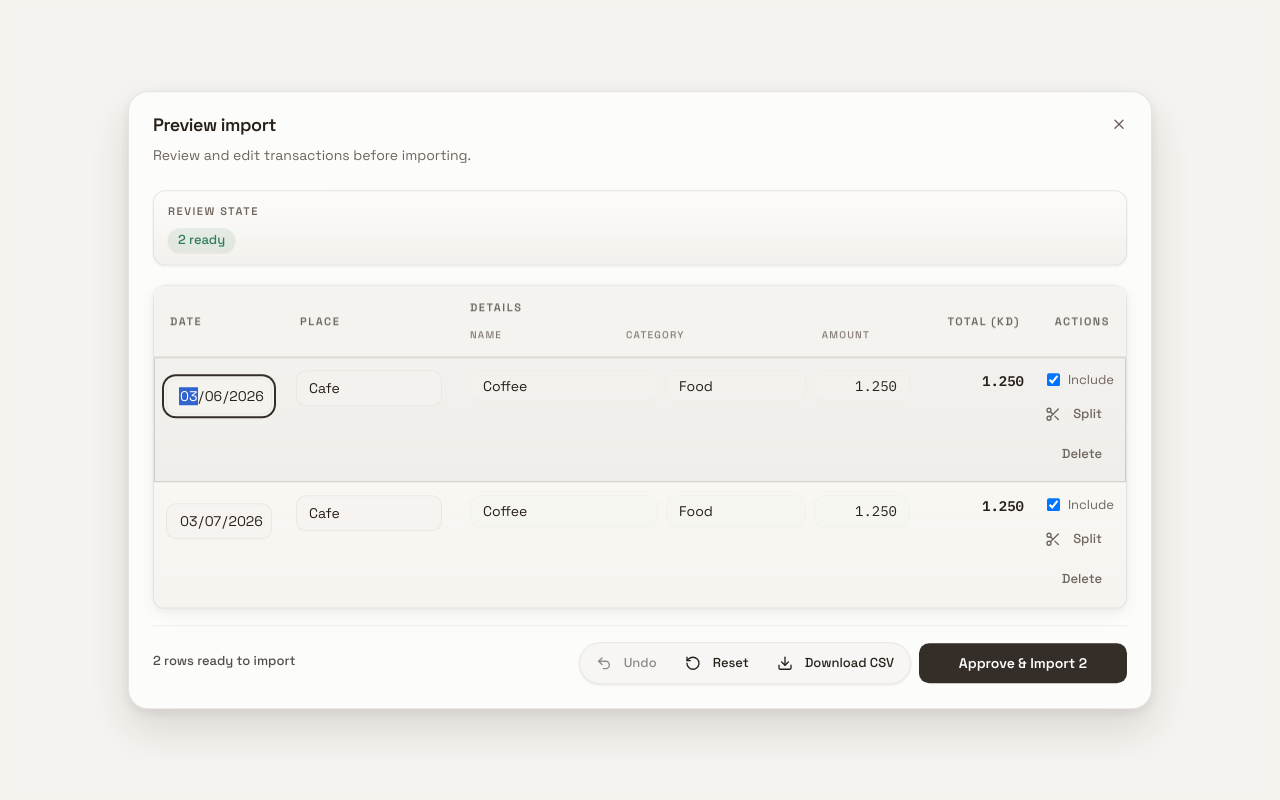
Test: PreviewImportDialog › shows atomic import diagnostics when the backend rejects a mixed batch
Click the button "Approve & Import 2".
click(1023, 663)  # box top-left (919, 643), bottom-right (1127, 683)
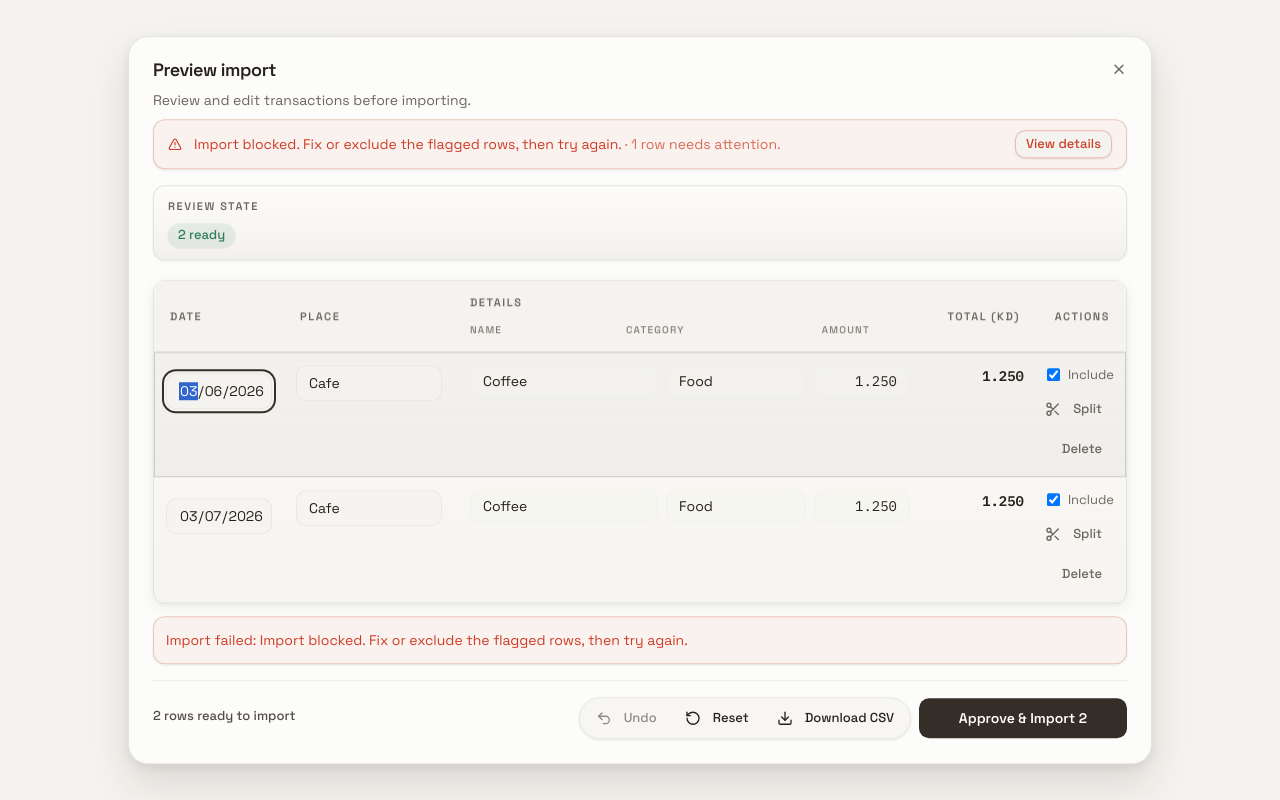
Check: the text "Import blocked. Fix or exclude the flagged rows, then try again." is shown, box top-left (194, 135), bottom-right (621, 153)
Click the button "View details".
click(1063, 144)  # box top-left (1015, 130), bottom-right (1112, 158)
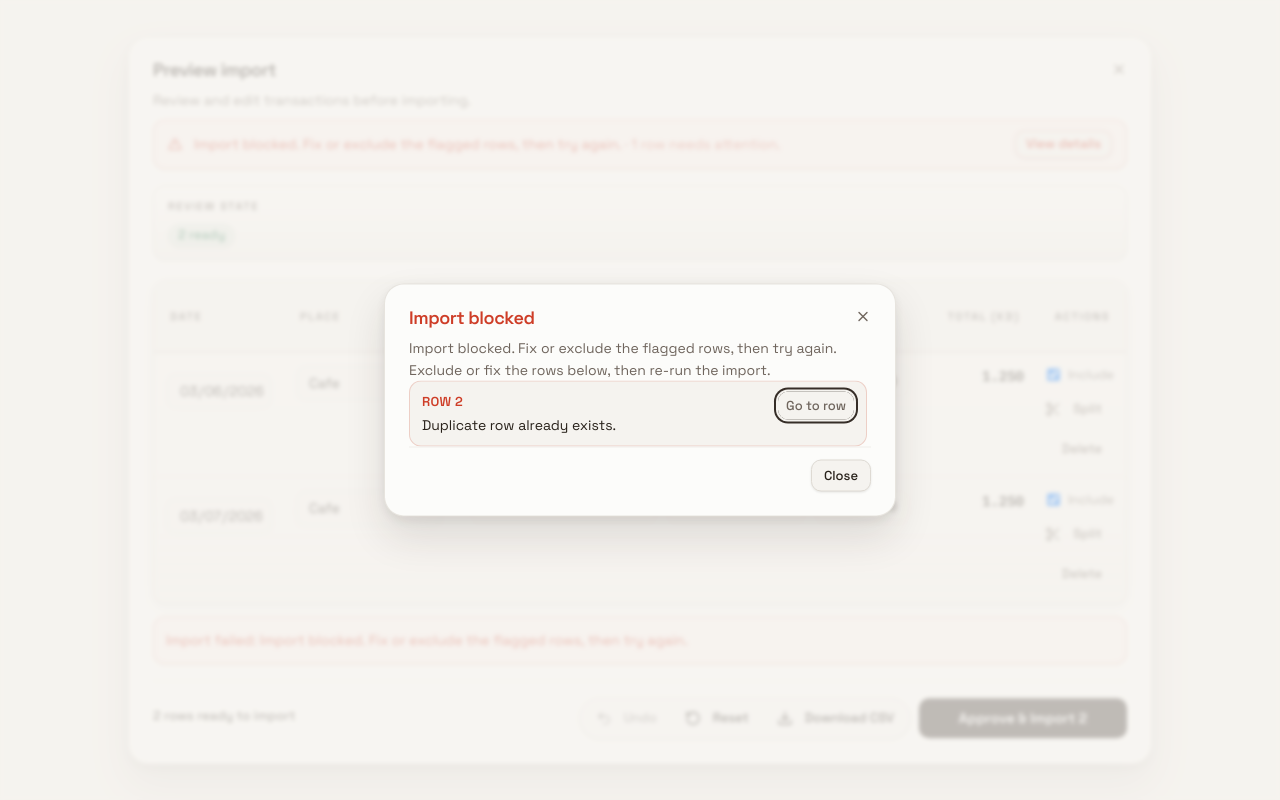
Check: the text "Row 2" is shown, box top-left (422, 392), bottom-right (463, 410)
Check: the text "Duplicate row already exists." is shown, box top-left (422, 416), bottom-right (616, 434)
